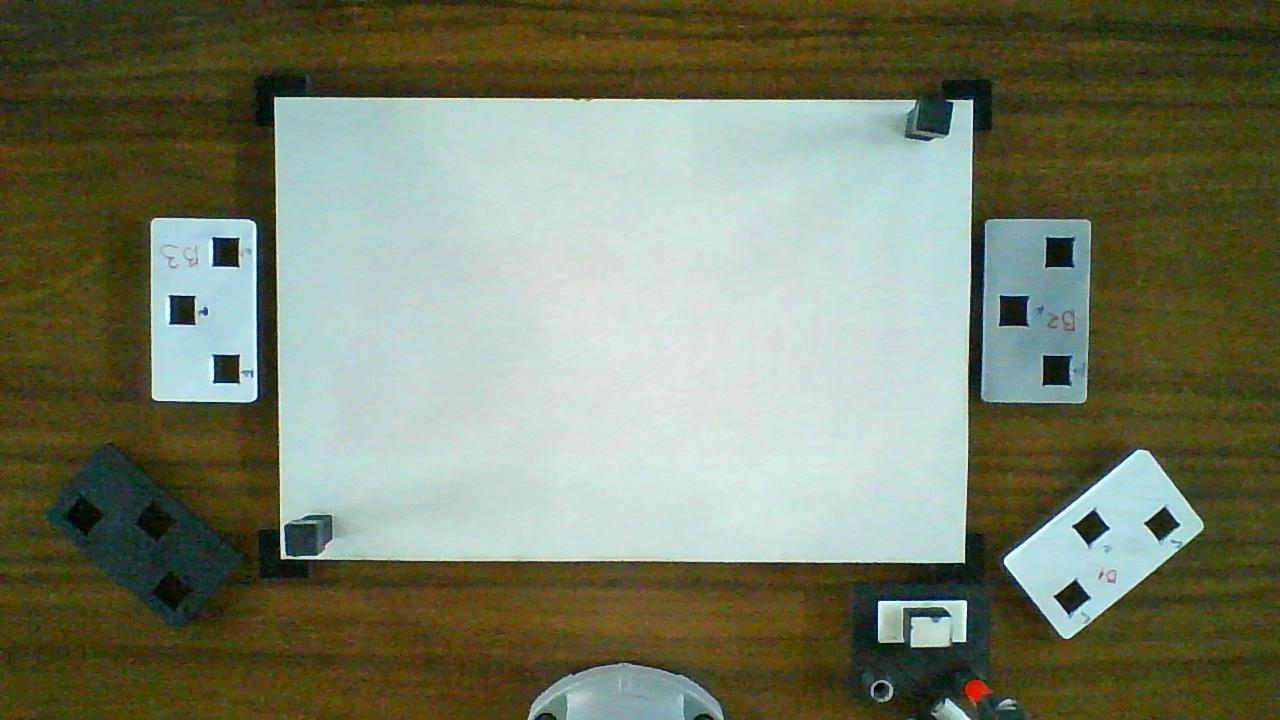peca_preta: (916, 96, 953, 135), (285, 526, 316, 555)
